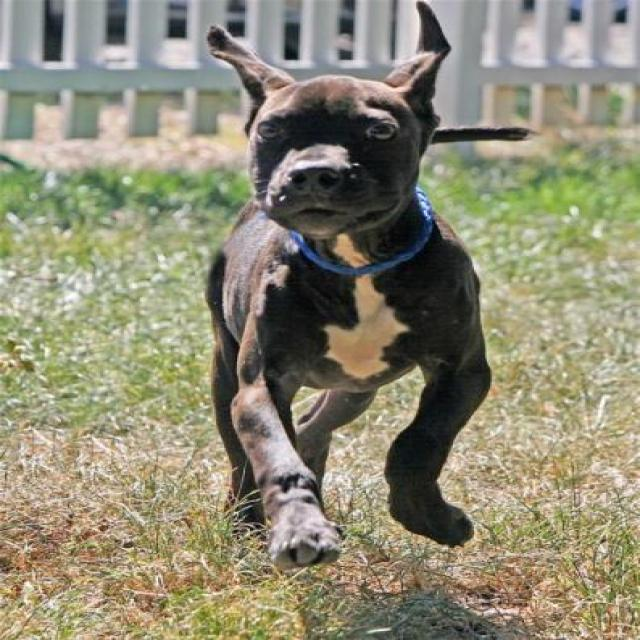Dogs: (200, 0, 535, 571)
